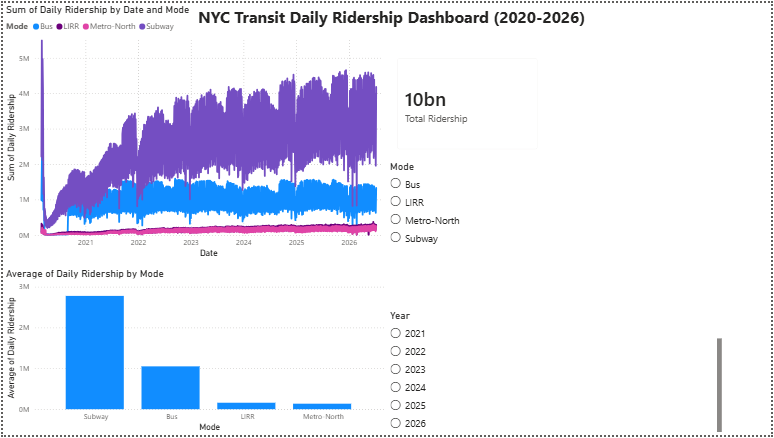

The page's visual inventory and layout, read from the dashboard file:
{"tool":"powerbi","page":{"name":"Page 1","canvas":[1280,720],"ordinal":0},"visuals":[{"type":"lineChart","fields":{"Series":["MTA_Daily_Ridership_and_Traffic__Beginning_2020_20260710.Mode"],"Y":["Sum(MTA_Daily_Ridership_and_Traffic__Beginning_2020_20260710.Daily Ridership)"],"Category":["MTA_Daily_Ridership_and_Traffic__Beginning_2020_20260710.Date"]},"box":[0,0,640,430],"z":0},{"type":"clusteredColumnChart","fields":{"Category":["MTA_Daily_Ridership_and_Traffic__Beginning_2020_20260710.Mode"],"Y":["Avg(MTA_Daily_Ridership_and_Traffic__Beginning_2020_20260710.Daily Ridership)"]},"box":[0,440,640,280],"z":1000},{"type":"cardVisual","fields":{"Data":["MTA_Daily_Ridership_and_Traffic__Beginning_2020_20260710.Total Ridership"]},"box":[640,75,268.3,186.7],"z":2000},{"type":"listSlicer","fields":{"Values":["MTA_Daily_Ridership_and_Traffic__Beginning_2020_20260710.Mode"]},"box":[640,261.7,563.3,248.3],"z":2001},{"type":"listSlicer","fields":{"Values":["MTA_Daily_Ridership_and_Traffic__Beginning_2020_20260710.Date.Variation.Date Hierarchy.Year"]},"box":[640,510,563.3,210],"z":2002},{"type":"textbox","box":[320,0,695,53.3],"z":2003}]}

Visuals, with their boxes in screenshot pixels (x1, y1, x2, y2), scaled from the page's 1280x720 canvas onto the 774x438 screenshot:
lineChart - MTA_Daily_Ridership_and_Traffic__Beginning_2020_20260710.Mode x Sum(MTA_Daily_Ridership_and_Traffic__Beginning_2020_20260710.Daily Ridership): 0 0 387 262
clusteredColumnChart - MTA_Daily_Ridership_and_Traffic__Beginning_2020_20260710.Mode x Avg(MTA_Daily_Ridership_and_Traffic__Beginning_2020_20260710.Daily Ridership): 0 268 387 437
cardVisual - MTA_Daily_Ridership_and_Traffic__Beginning_2020_20260710.Total Ridership: 387 46 549 159
listSlicer - MTA_Daily_Ridership_and_Traffic__Beginning_2020_20260710.Mode: 387 159 728 310
listSlicer - MTA_Daily_Ridership_and_Traffic__Beginning_2020_20260710.Date.Variation.Date Hierarchy.Year: 387 310 728 437
textbox: 194 0 614 32
